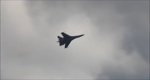maybay_muctieu: (55, 30, 86, 49)
